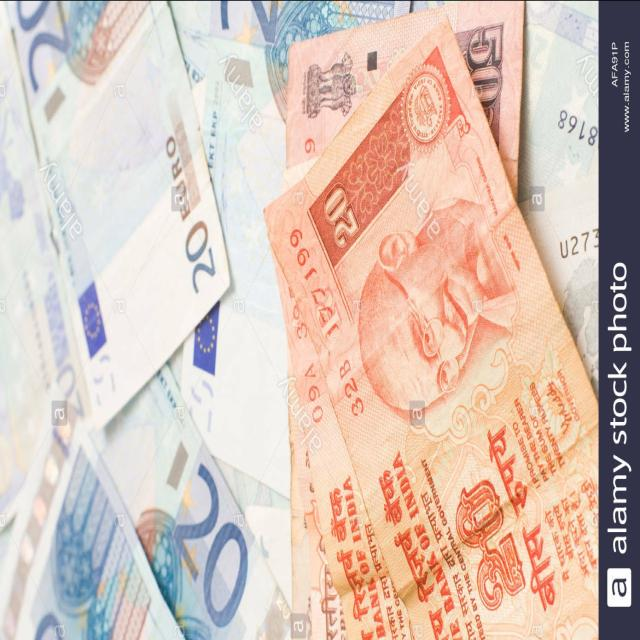20IndianRupees: (266, 16, 599, 640)
